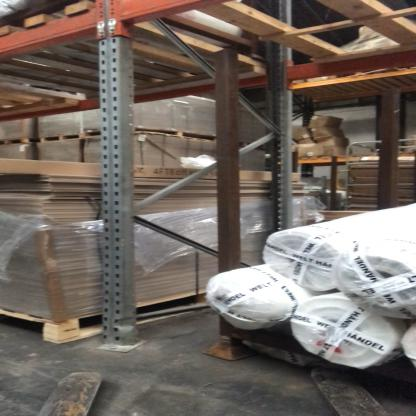vertical_damage: (97, 310, 148, 353)
